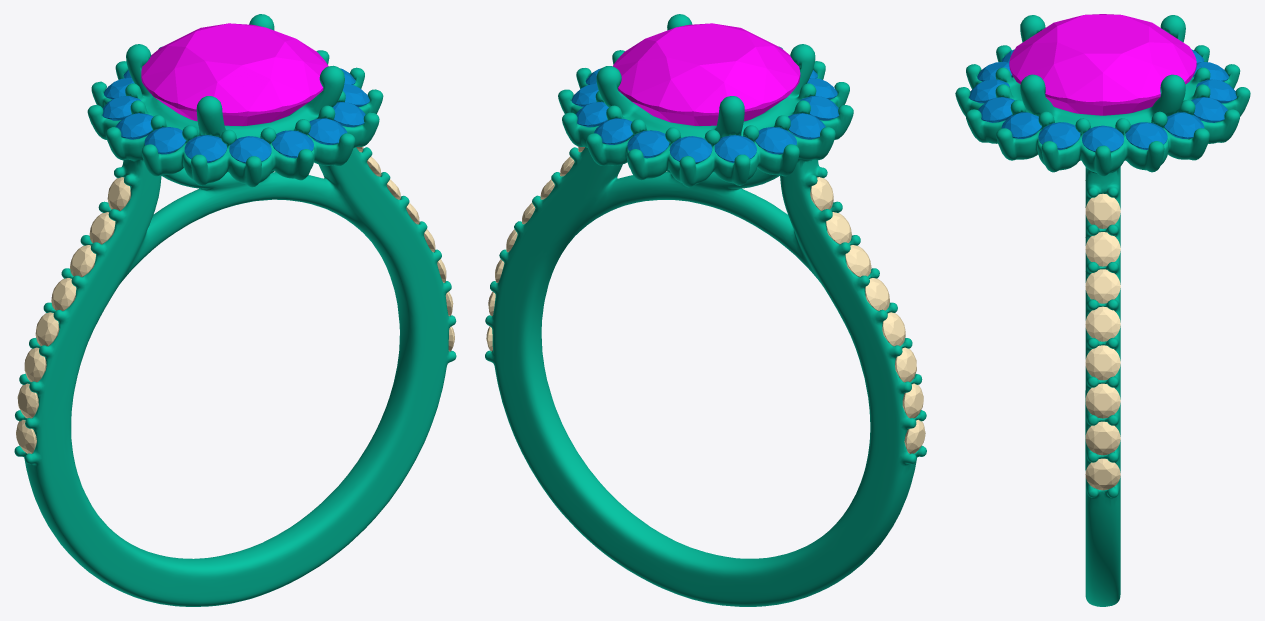
File: BE1D1416_RD_200ct_RENDER.glb
3 views of the same model, side by side, from view 1: azimuth 30°, elevation 25°; view 2: azimuth 150°, elevation 25°; view 3: azimuth 270°, elevation 25° (orthographic).
Visible parts, largest first — view 1: Metal 01, CS_Diamond_Round, Diamond_Round_Gem_HD.004, Diamond_Round_Gem_HD.005, Diamond_Round_Gem_HD.003, Diamond_Round_Gem_HD.006, Diamond_Round_Gem_HD.002, Diamond_Round_Gem_HD.007, Diamond_Round_Gem_HD.001, Diamond_Round_Gem_SH.006, Diamond_Round_Gem_SH.007, Diamond_Round_Gem_SH.005 (+4 smaller); view 2: Metal 01, CS_Diamond_Round, Diamond_Round_Gem_HD.010, Diamond_Round_Gem_HD.009, Diamond_Round_Gem_HD.011, Diamond_Round_Gem_HD.008, Diamond_Round_Gem_HD.012, Diamond_Round_Gem_HD.007, Diamond_Round_Gem_HD.013, Diamond_Round_Gem_SH.007, Diamond_Round_Gem_SH.006, Diamond_Round_Gem_SH.005 (+4 smaller); view 3: Metal 01, CS_Diamond_Round, Diamond_Round_Gem_SH.013, Diamond_Round_Gem_SH.012, Diamond_Round_Gem_SH.014, Diamond_Round_Gem_SH.008, Diamond_Round_Gem_SH.015, Diamond_Round_Gem_SH.011, Diamond_Round_Gem_SH.009, Diamond_Round_Gem_SH.010, Diamond_Round_Gem_HD.015, Diamond_Round_Gem_HD (+7 smaller).
Part boxes in pixels (<box>): Metal 01: <box>14,14,456,606</box>; CS_Diamond_Round: <box>141,23,328,126</box>; Diamond_Round_Gem_HD.004: <box>229,136,271,163</box>; Diamond_Round_Gem_HD.005: <box>184,135,226,162</box>; Diamond_Round_Gem_HD.003: <box>272,130,313,158</box>; Diamond_Round_Gem_HD.006: <box>144,127,186,154</box>; Diamond_Round_Gem_HD.002: <box>308,118,347,144</box>; Diamond_Round_Gem_HD.007: <box>115,113,153,139</box>; Diamond_Round_Gem_HD.001: <box>333,102,365,127</box>; Diamond_Round_Gem_SH.006: <box>51,278,76,310</box>; Diamond_Round_Gem_SH.007: <box>70,245,95,277</box>; Diamond_Round_Gem_SH.005: <box>35,312,59,346</box>; Metal 01: <box>485,14,926,606</box>; CS_Diamond_Round: <box>612,23,800,125</box>; Diamond_Round_Gem_HD.010: <box>669,136,712,163</box>; Diamond_Round_Gem_HD.009: <box>714,135,756,162</box>; Diamond_Round_Gem_HD.011: <box>627,130,669,158</box>; Diamond_Round_Gem_HD.008: <box>755,127,796,154</box>; Diamond_Round_Gem_HD.012: <box>594,118,633,144</box>; Diamond_Round_Gem_HD.007: <box>788,113,825,139</box>; Diamond_Round_Gem_HD.013: <box>576,101,608,127</box>; Diamond_Round_Gem_SH.007: <box>845,245,871,276</box>; Diamond_Round_Gem_SH.006: <box>865,278,889,310</box>; Diamond_Round_Gem_SH.005: <box>882,312,905,346</box>; Metal 01: <box>955,15,1250,606</box>; CS_Diamond_Round: <box>1009,14,1196,115</box>; Diamond_Round_Gem_SH.013: <box>1085,345,1120,380</box>; Diamond_Round_Gem_SH.012: <box>1085,383,1120,418</box>; Diamond_Round_Gem_SH.014: <box>1085,306,1120,341</box>; Diamond_Round_Gem_SH.008: <box>1085,193,1120,228</box>; Diamond_Round_Gem_SH.015: <box>1085,269,1120,303</box>; Diamond_Round_Gem_SH.011: <box>1085,421,1120,455</box>; Diamond_Round_Gem_SH.009: <box>1085,232,1120,266</box>; Diamond_Round_Gem_SH.010: <box>1085,458,1120,490</box>; Diamond_Round_Gem_HD.015: <box>1082,125,1123,151</box>; Diamond_Round_Gem_HD: <box>1038,122,1080,149</box>.
Bounding box in the file's own units: 21.05 × 25.97 × 12.62.
